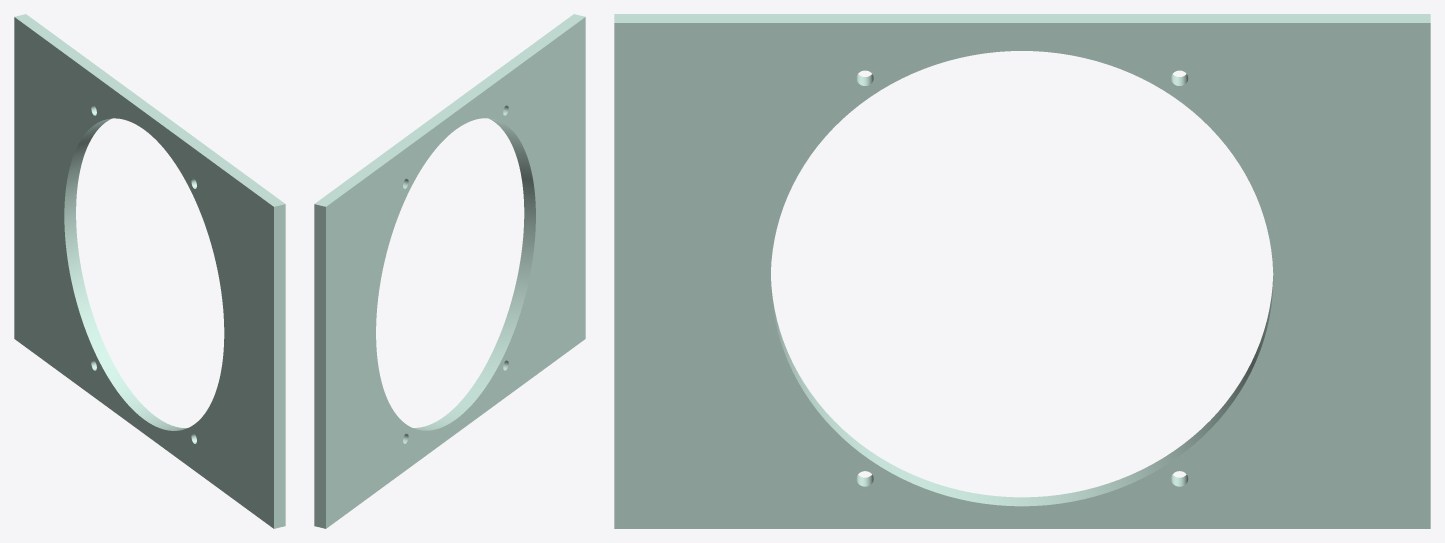
3 views of the same model, side by side, from view 1: azimuth 30°, elevation 25°; view 2: azimuth 150°, elevation 25°; view 3: azimuth 270°, elevation 25° (orthographic). The views are drawn at different scales.
Visible parts, largest first — view 1: Renderer Node; view 2: Renderer Node; view 3: Renderer Node.
Part boxes in pixels (x1,y1,x2,y2): Renderer Node: (14, 14, 285, 528); Renderer Node: (314, 14, 585, 528); Renderer Node: (614, 14, 1430, 528).
Bounding box in the file's own units: 0.0391 × 1.03 × 1.5.
